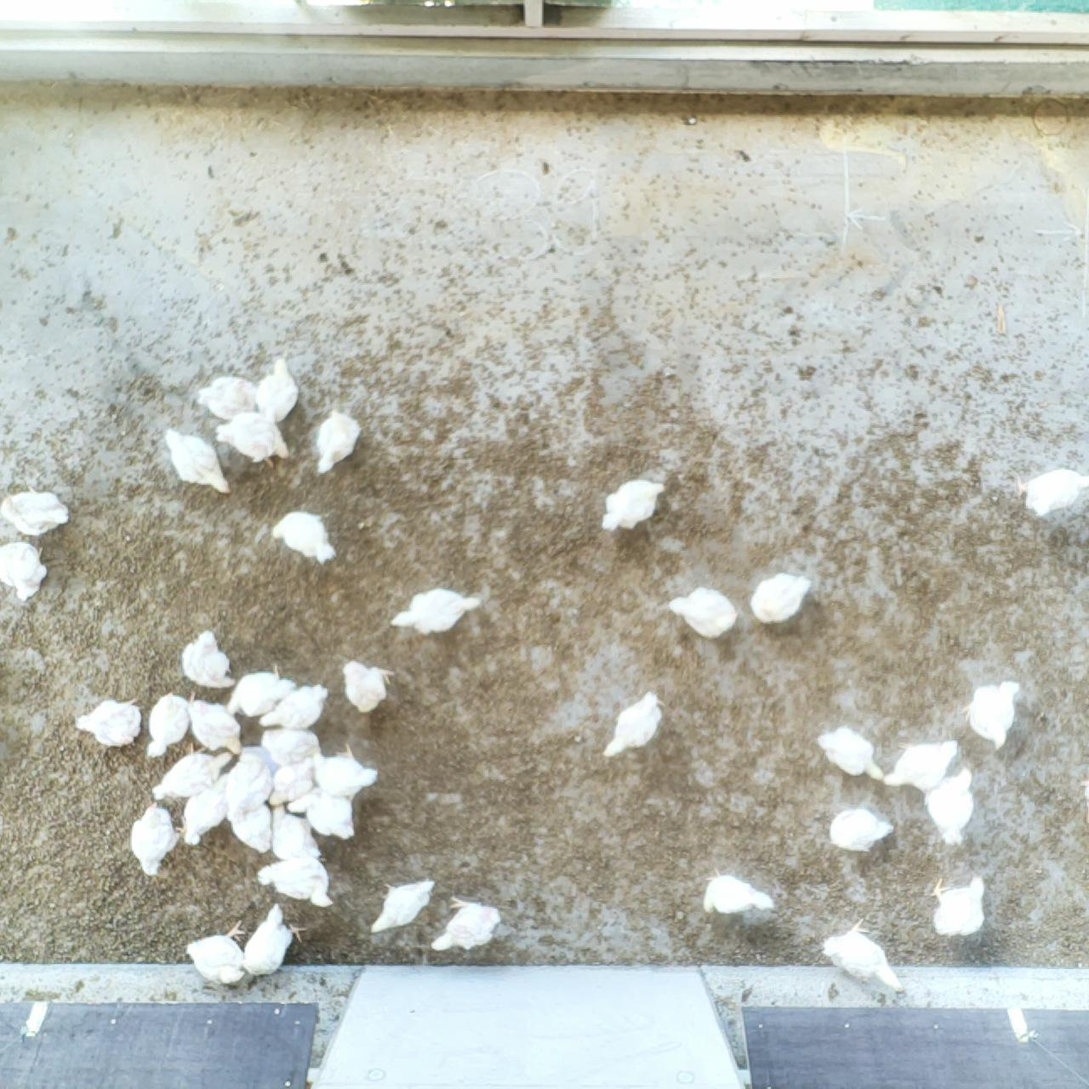chicken: (821, 917, 905, 994), (240, 900, 309, 981), (160, 425, 235, 499), (599, 689, 668, 768), (392, 584, 481, 642), (215, 411, 292, 471), (221, 748, 281, 825), (183, 921, 249, 990), (222, 661, 299, 720), (305, 742, 382, 801), (882, 737, 960, 795), (254, 855, 332, 912), (431, 897, 506, 956), (815, 724, 887, 785), (929, 869, 989, 942), (366, 877, 438, 937), (923, 767, 976, 848), (965, 679, 1025, 750), (1015, 465, 1089, 522), (665, 584, 739, 641), (599, 477, 668, 538), (152, 750, 234, 801), (72, 694, 144, 752), (129, 801, 183, 876), (186, 691, 246, 757), (702, 865, 777, 917), (0, 486, 73, 539), (258, 682, 332, 733), (175, 784, 229, 853), (271, 509, 336, 565), (253, 355, 303, 427), (267, 805, 326, 865), (297, 780, 356, 840), (313, 407, 365, 475), (750, 570, 815, 624), (144, 690, 193, 759), (1, 537, 51, 604), (197, 373, 257, 428), (341, 656, 396, 716), (181, 629, 235, 690), (828, 808, 897, 853), (226, 791, 274, 854), (257, 725, 324, 767), (270, 755, 317, 810)
